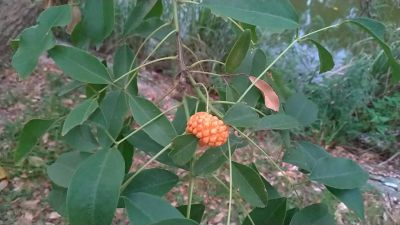eggs: (185, 109, 230, 150)
